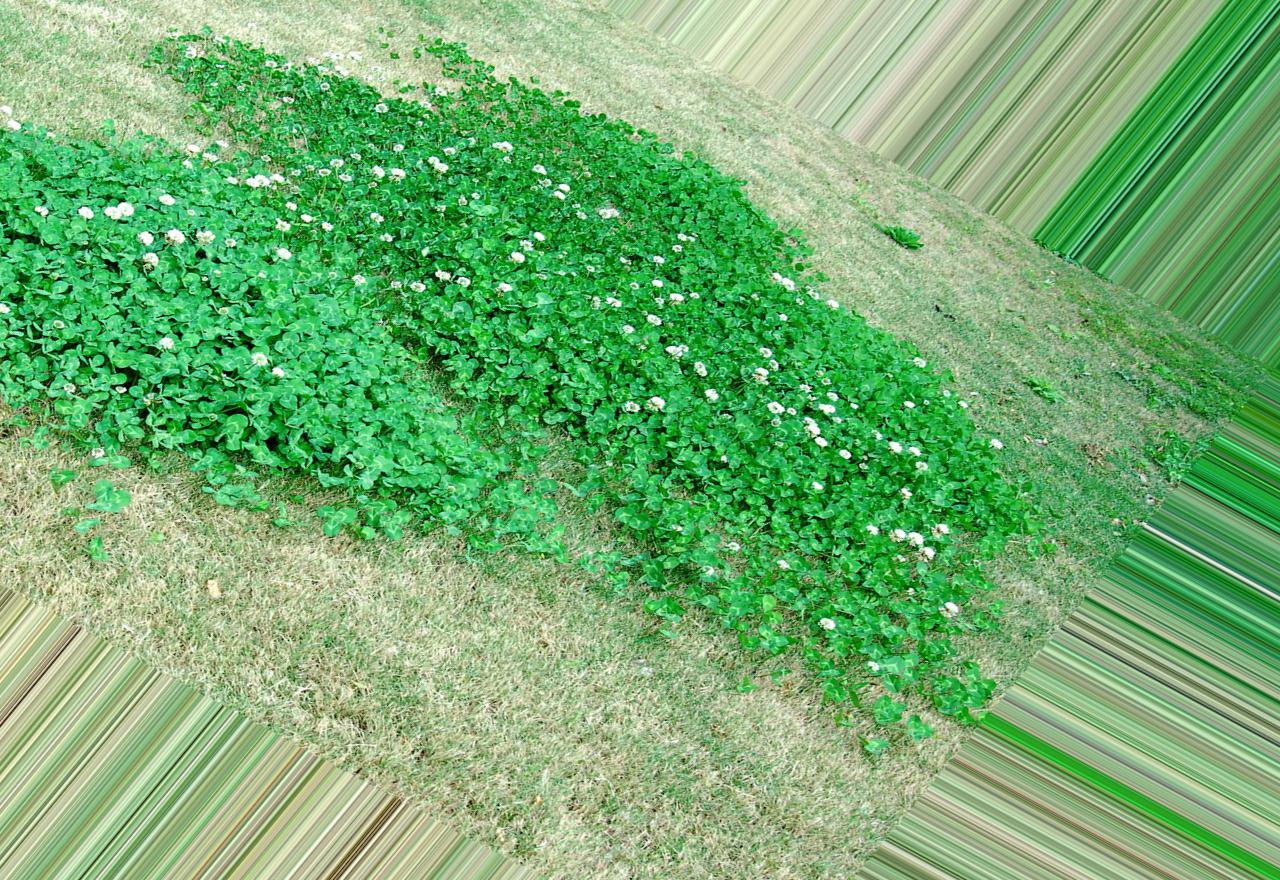patch: (322, 551, 565, 774), (47, 449, 290, 647), (574, 658, 790, 855), (788, 175, 943, 308), (34, 15, 165, 108), (531, 32, 672, 111), (703, 69, 774, 188), (299, 1, 383, 81)
